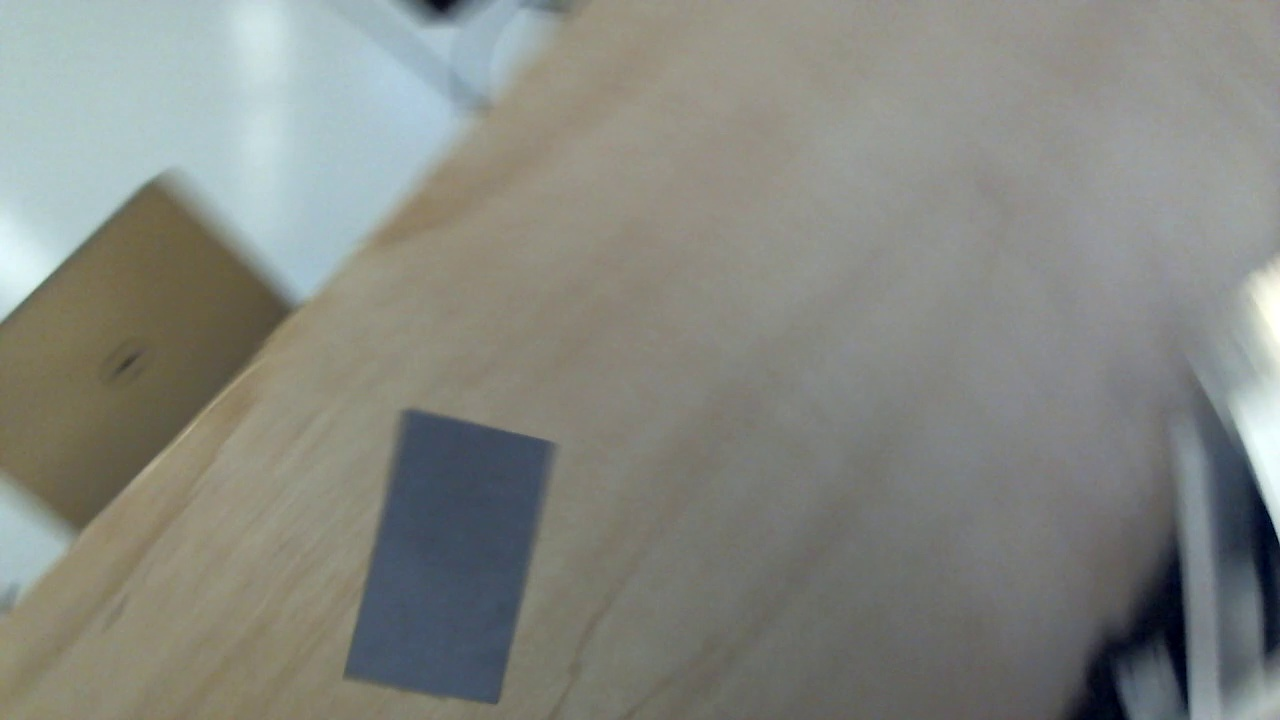Tape: (343, 410, 558, 703)
